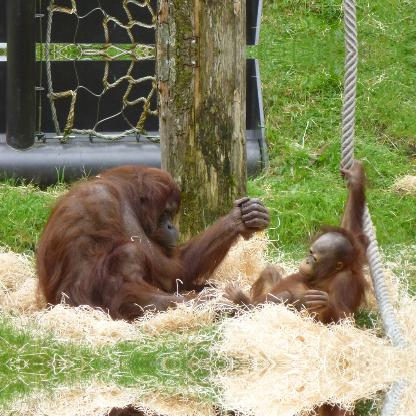Monkey: (35, 164, 269, 322)
